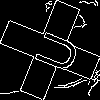U: (25, 25, 81, 76)
